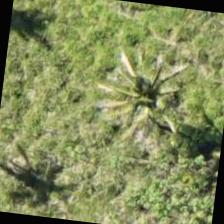Kelapa_Sawit: (98, 53, 198, 153), (0, 127, 78, 220)
